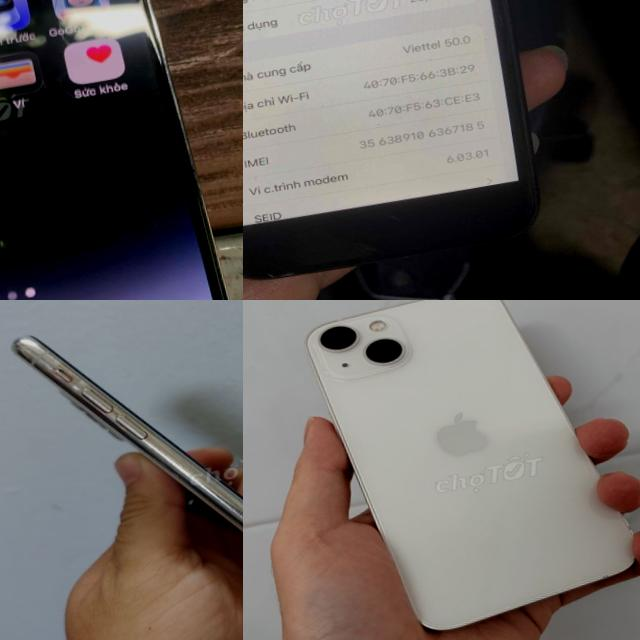gen_11: (5, 300, 243, 640)
gen_12_13: (289, 300, 640, 640)
gen_14: (0, 0, 243, 300)
gen_7_8: (243, 0, 557, 292)
